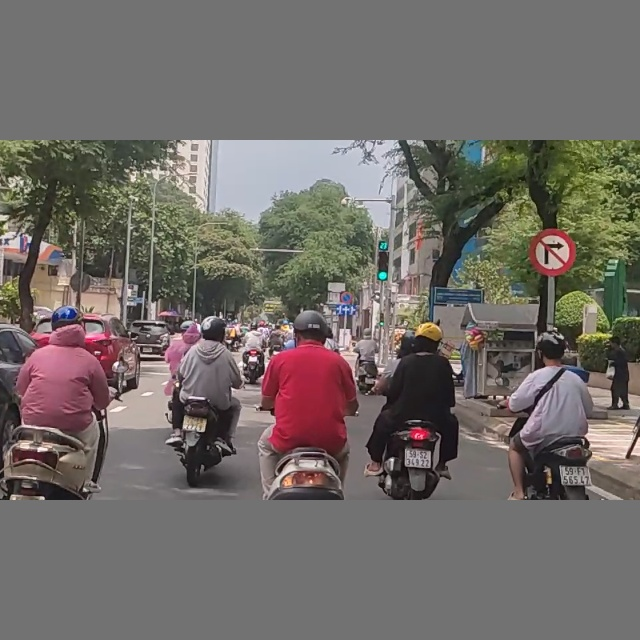P.123b: (529, 229, 576, 276)
P.131a: (337, 290, 353, 304)
